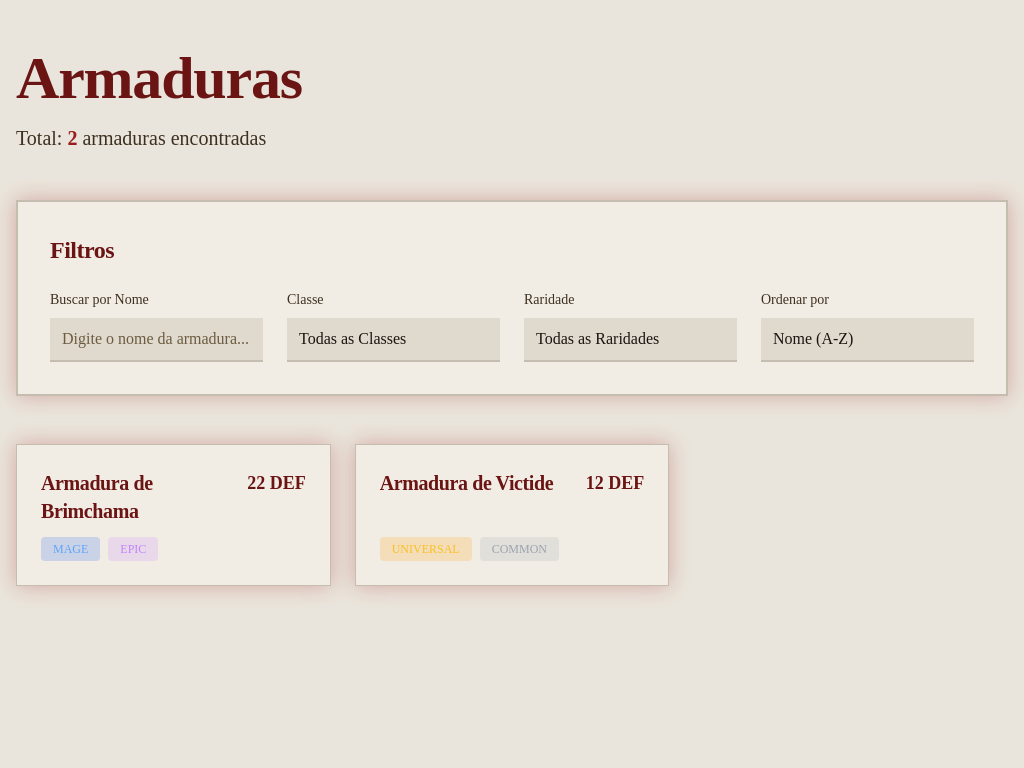
Test: ArmorPage › filters the list by search term
expect the heading "Armadura de Victide" is shown: met, box left=380, top=469, right=553, bottom=497
Type "brim" into the field with placeholder "Digite o nome da armadura..." at (156, 340), box left=50, top=318, right=263, bottom=362
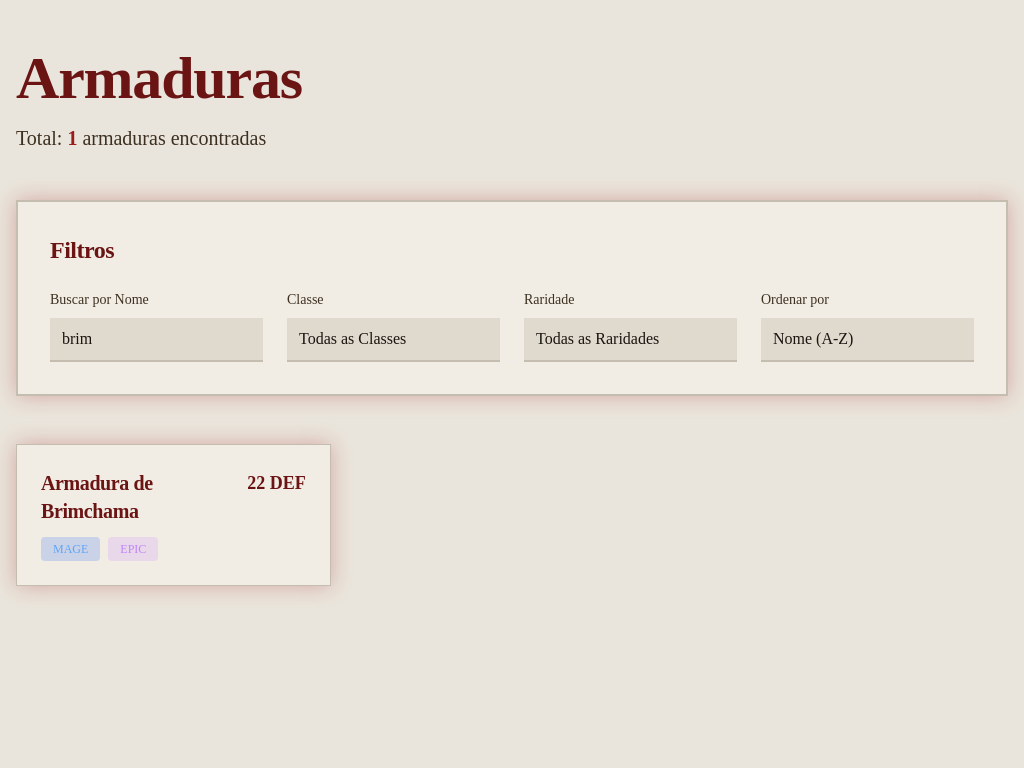
expect the heading "Armadura de Brimchama" is shown: met, box left=41, top=472, right=153, bottom=522
expect the button "Armadura de Victide" is gone: met
